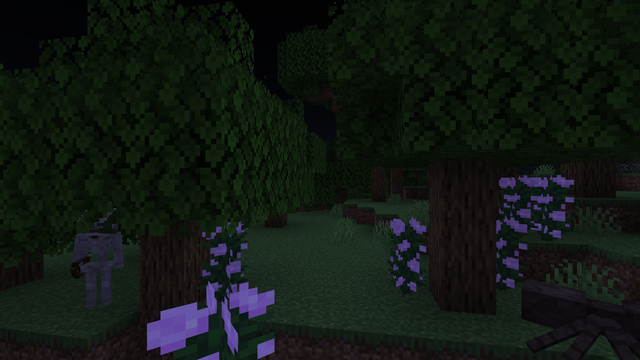araignees: (523, 275, 636, 358)
squelettes: (70, 233, 123, 313)
